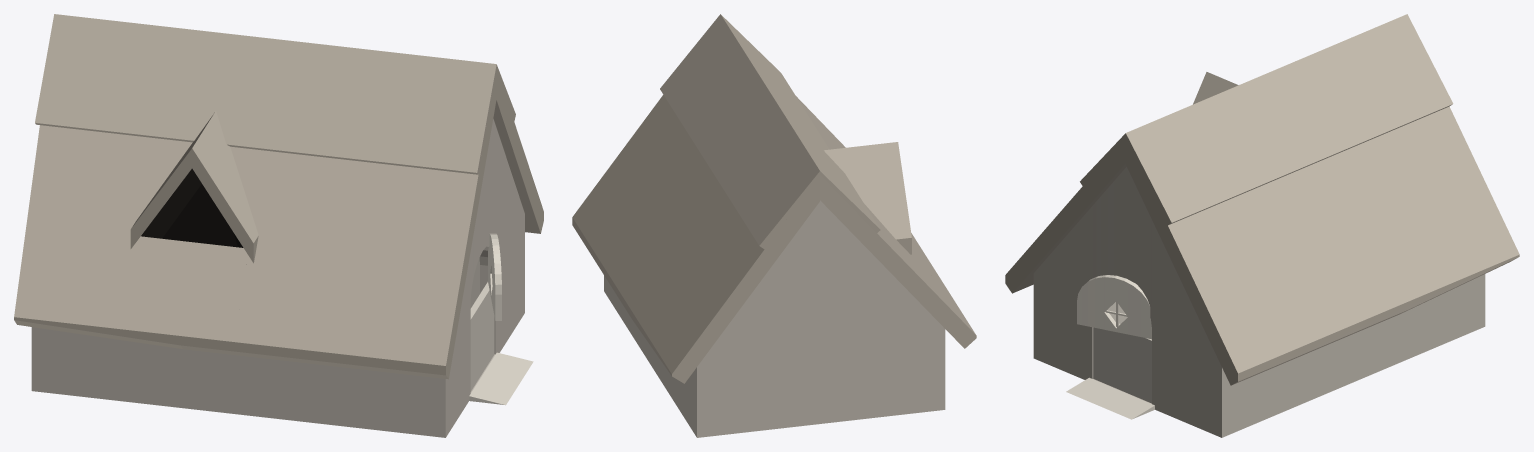
Rendered from cottage-south-east_clay.glb.
The picture shows the model from 3 angles, left to right: view 1: azimuth 30°, elevation 25°; view 2: azimuth 150°, elevation 25°; view 3: azimuth 270°, elevation 25°; orthographic projection. The views are drawn at different scales.
Visible parts, largest first — view 1: roofs, walls, frames, openings; view 2: roofs, walls; view 3: roofs, walls, frames.
Part boxes in pixels (x1,y1,x2,y2): roofs: [14, 14, 543, 379]; walls: [31, 119, 524, 437]; frames: [469, 233, 533, 405]; openings: [141, 168, 243, 247]; roofs: [572, 14, 976, 383]; walls: [604, 200, 945, 437]; roofs: [1005, 14, 1519, 385]; walls: [1033, 167, 1485, 437]; frames: [1066, 275, 1154, 419].
Bounding box in the file's own units: 6.88 × 4.03 × 6.97.
